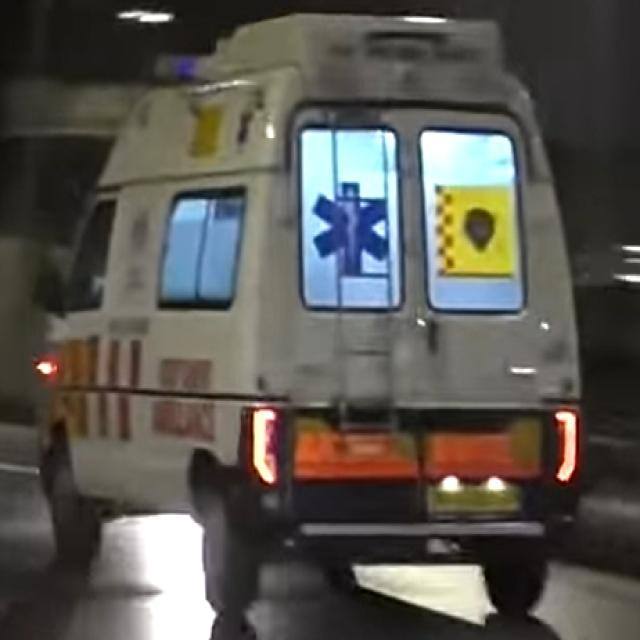ambulance: (30, 8, 586, 626)
